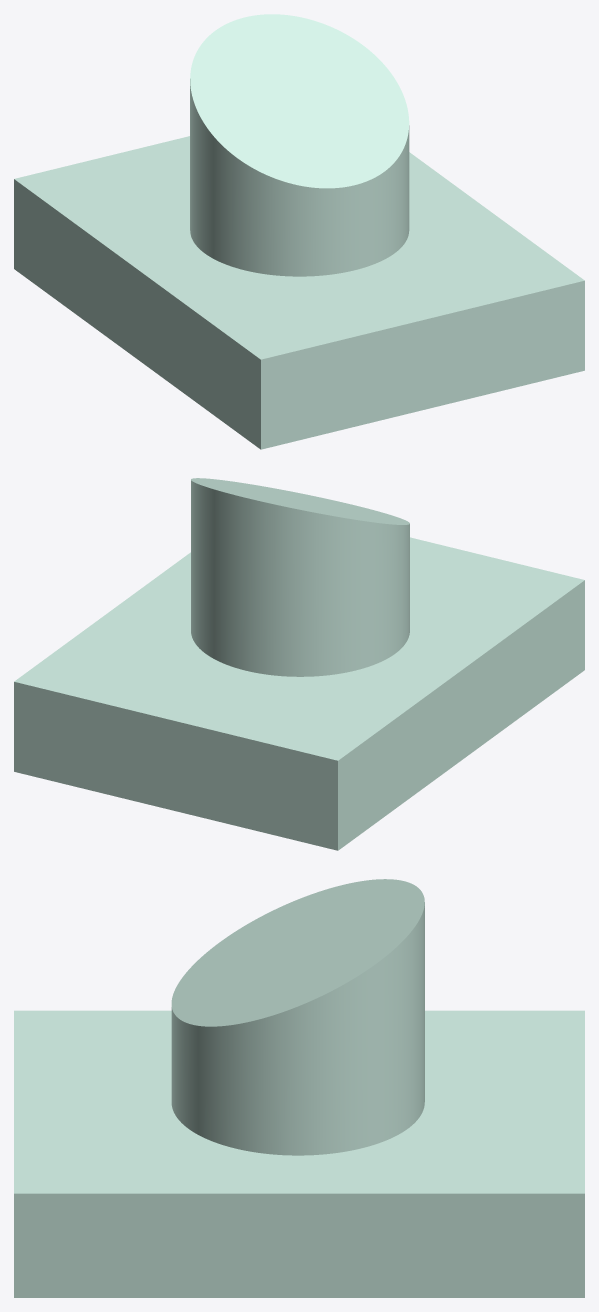
The picture shows the model from 3 angles, top to bottom: view 1: azimuth 30°, elevation 25°; view 2: azimuth 150°, elevation 25°; view 3: azimuth 270°, elevation 25°; orthographic projection. The views are drawn at different scales.
Parts seen in each view (by area): view 1: Renderer Node; view 2: Renderer Node; view 3: Renderer Node.
Boxes of the visible parts, x1=… form: Renderer Node: x1=14, y1=14, x2=584, y2=449; Renderer Node: x1=14, y1=478, x2=584, y2=850; Renderer Node: x1=14, y1=879, x2=584, y2=1297.
Size of the model in its own units: 0.9711 by 0.7527 by 1.28.
